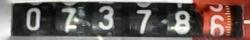digits: (166, 10, 190, 34), (61, 6, 78, 32), (135, 8, 152, 34), (97, 6, 114, 30), (25, 7, 41, 30), (209, 14, 225, 35)
